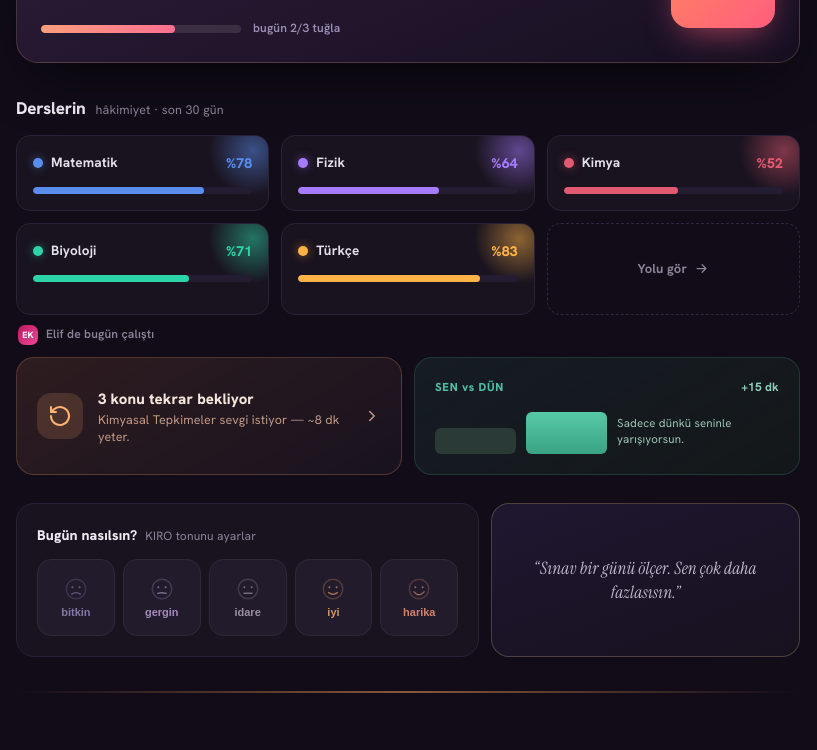
Test: BugunPage › mood radiogroup 5 seçenek + seçimde aria-live mesajı
This screenshot has width=817, height=750.
(page scrolled)
Click the radio button labelled "bitkin". click: point(76, 597)
box: [37,558,115,636]
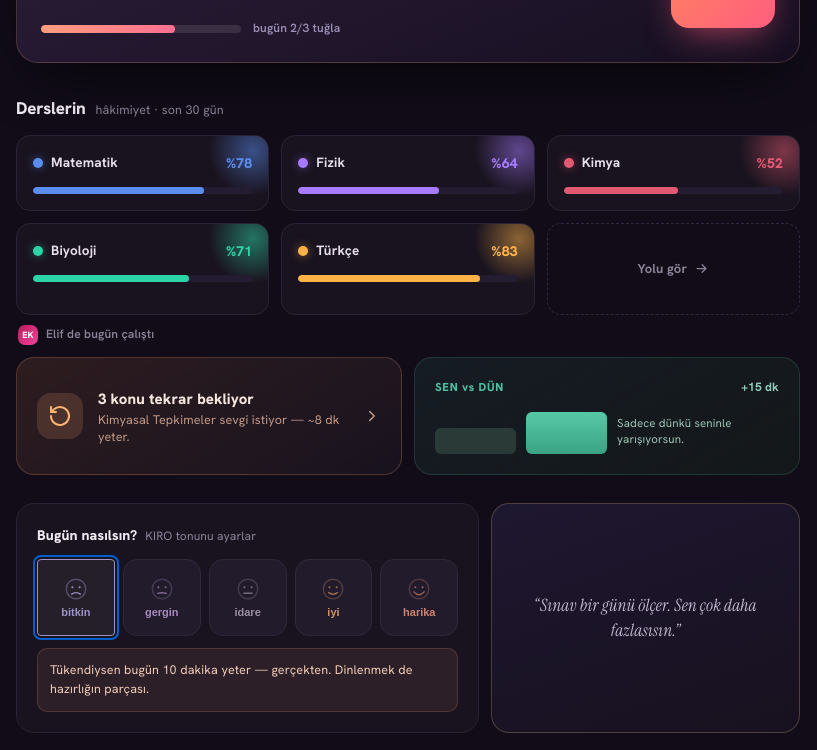
Result: the text "Tükendiysen bugün 10 dakika yeter" is shown at [50,661,413,697]
